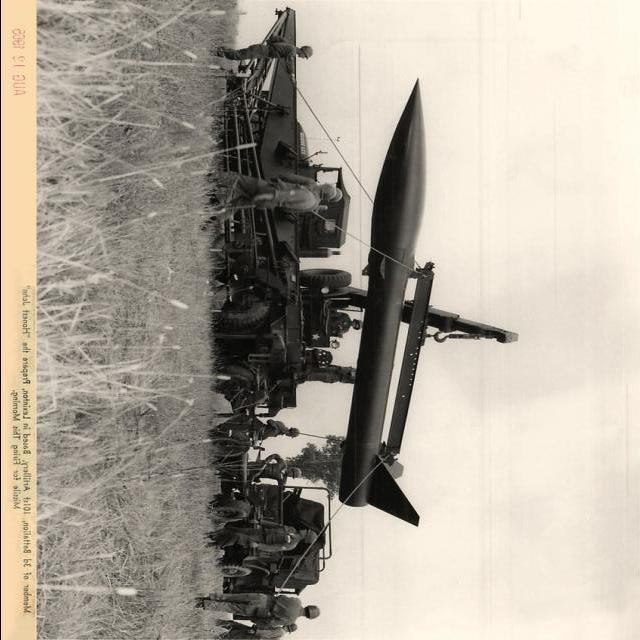missile: (341, 79, 431, 544)
